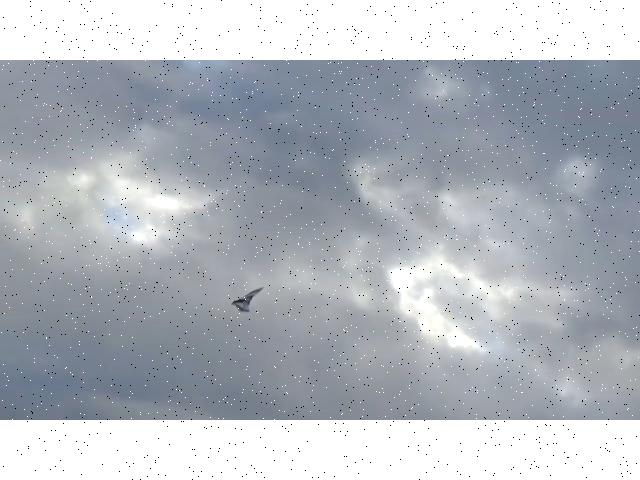Anti-Drone: (232, 286, 264, 313)
